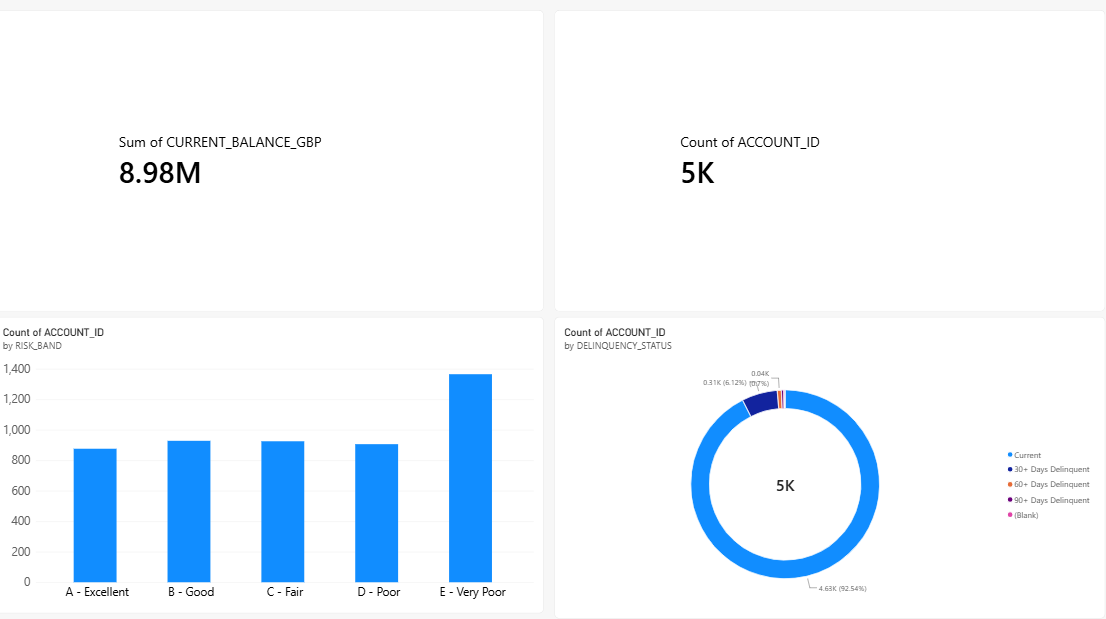

Layout of this report page (visuals, bound fields, positions):
{"tool":"powerbi","page":{"name":"Page 1","canvas":[1920,1080],"ordinal":0},"visuals":[{"type":"clusteredColumnChart","fields":{"Category":["FCT_PORTFOLIO_PERFORMANCE.RISK_BAND"],"Y":["CountNonNull(FCT_PORTFOLIO_PERFORMANCE.ACCOUNT_ID)"]},"box":[0,550.2,950,510.9],"z":0},{"type":"cardVisual","fields":{"Data":["Sum(FCT_PORTFOLIO_PERFORMANCE.CURRENT_BALANCE_GBP)"]},"box":[0,20.8,950,520],"z":1000},{"type":"cardVisual","fields":{"Data":["CountNonNull(FCT_PORTFOLIO_PERFORMANCE.ACCOUNT_ID)"]},"box":[969,21,950,520],"z":2000},{"type":"donutChart","fields":{"Category":["FCT_PORTFOLIO_PERFORMANCE.DELINQUENCY_STATUS"],"Y":["CountNonNull(FCT_PORTFOLIO_PERFORMANCE.ACCOUNT_ID)"]},"box":[969,551,950,520],"z":3000}]}

Visuals, with their boxes in screenshot pixels (x1, y1, x2, y2), scaled from the page's 1920x1080 canvas onto the 1106x619 screenshot:
clusteredColumnChart - FCT_PORTFOLIO_PERFORMANCE.RISK_BAND x CountNonNull(FCT_PORTFOLIO_PERFORMANCE.ACCOUNT_ID): detection(0, 315, 547, 608)
cardVisual - Sum(FCT_PORTFOLIO_PERFORMANCE.CURRENT_BALANCE_GBP): detection(0, 12, 547, 310)
cardVisual - CountNonNull(FCT_PORTFOLIO_PERFORMANCE.ACCOUNT_ID): detection(558, 12, 1105, 310)
donutChart - FCT_PORTFOLIO_PERFORMANCE.DELINQUENCY_STATUS x CountNonNull(FCT_PORTFOLIO_PERFORMANCE.ACCOUNT_ID): detection(558, 316, 1105, 614)
